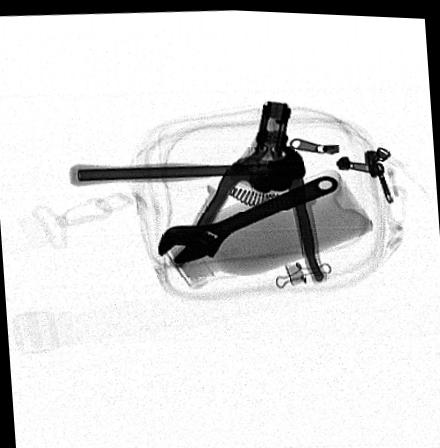Hammer: (69, 141, 312, 192)
Pliers: (170, 94, 330, 286)
Wrench: (154, 170, 342, 263)
